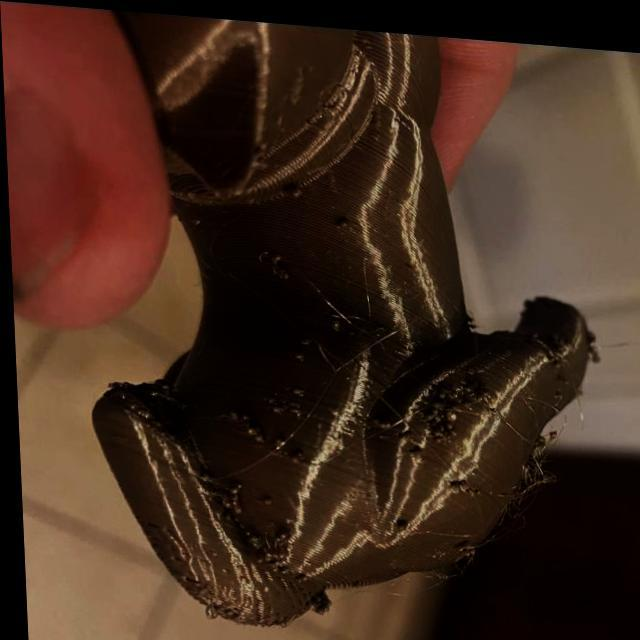stringing: (519, 438, 546, 478), (418, 558, 448, 581), (490, 502, 516, 528), (506, 481, 530, 506), (449, 548, 466, 572)
zits: (451, 528, 474, 550), (306, 587, 328, 610), (268, 259, 290, 280), (427, 413, 446, 434), (371, 408, 390, 427), (266, 428, 284, 448), (192, 464, 208, 486), (259, 386, 278, 404), (294, 326, 310, 346), (284, 176, 300, 196), (449, 472, 466, 490), (267, 524, 284, 542), (473, 375, 489, 394), (283, 378, 300, 395), (392, 509, 409, 526), (417, 402, 434, 418), (257, 488, 272, 506), (284, 442, 300, 458), (334, 211, 350, 226), (224, 476, 240, 491), (443, 402, 458, 417), (224, 496, 241, 509), (289, 399, 301, 416), (326, 312, 340, 326), (284, 392, 298, 406), (458, 354, 472, 367), (290, 344, 302, 358), (428, 390, 442, 402), (267, 398, 278, 411)
